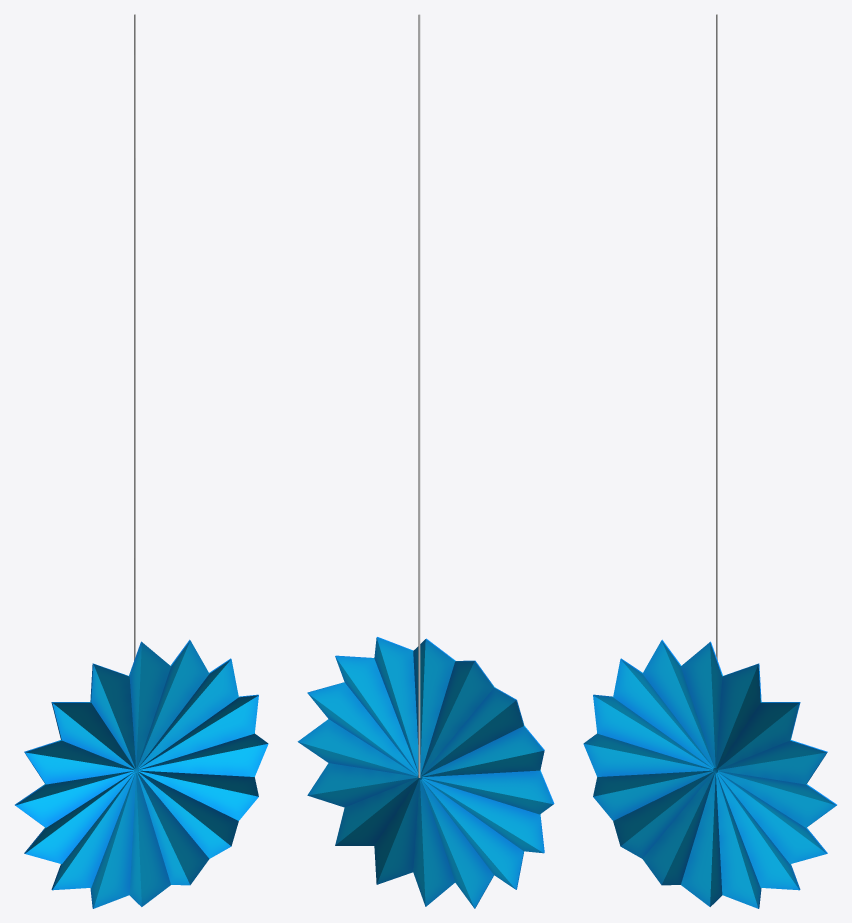
Rendered from PartyHangings01B_8.FBX.
3 views of the same model, side by side, from view 1: azimuth 30°, elevation 25°; view 2: azimuth 150°, elevation 25°; view 3: azimuth 330°, elevation 25° (orthographic).
Visible parts, largest first — view 1: PartyHangings01B_8; view 2: PartyHangings01B_8; view 3: PartyHangings01B_8.
Part boxes in pixels (box(x1,y1,x2,y2)): PartyHangings01B_8: box(15, 14, 268, 908); PartyHangings01B_8: box(297, 14, 554, 908); PartyHangings01B_8: box(583, 14, 836, 908).
Size of what is drawn, in the model's own units: 0.2837 by 0.9488 by 0.0309.
